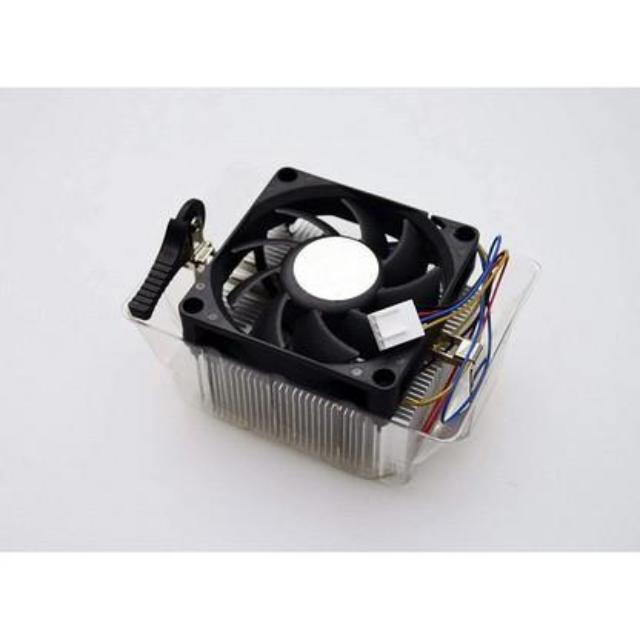CPU_Fan: (155, 152, 518, 490)
